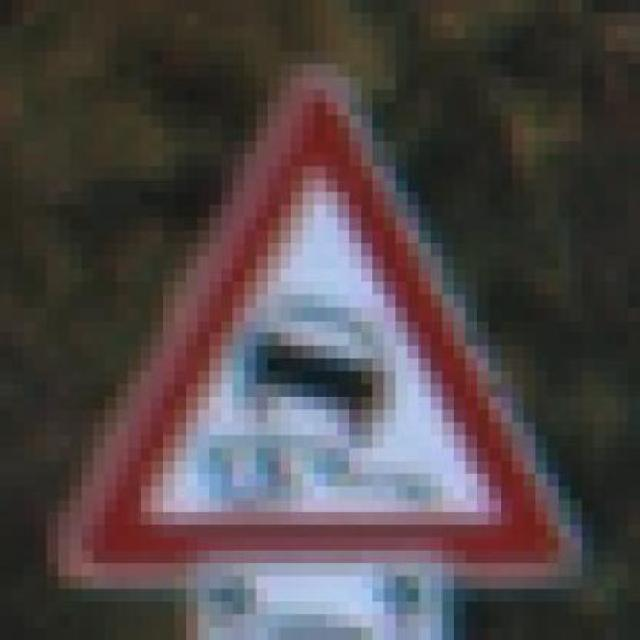Slippery Road Ahead: (47, 51, 605, 589)
